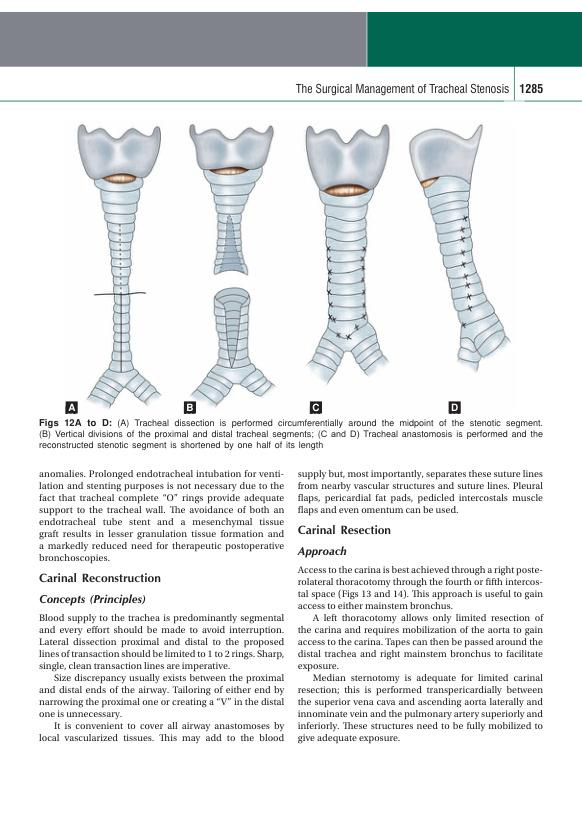caption: (37, 418, 544, 451), (66, 402, 77, 413), (185, 401, 195, 412), (311, 402, 320, 413), (450, 402, 459, 413)
header: (294, 81, 511, 96)
image: (402, 116, 518, 416), (57, 118, 168, 416), (177, 116, 285, 416), (294, 117, 396, 417)
section-heading: (37, 571, 162, 584), (296, 523, 392, 536)
sub-section-heading: (39, 593, 147, 607), (296, 545, 348, 559)
text: (296, 564, 546, 745), (38, 612, 285, 745), (37, 467, 285, 565), (295, 468, 544, 517)
